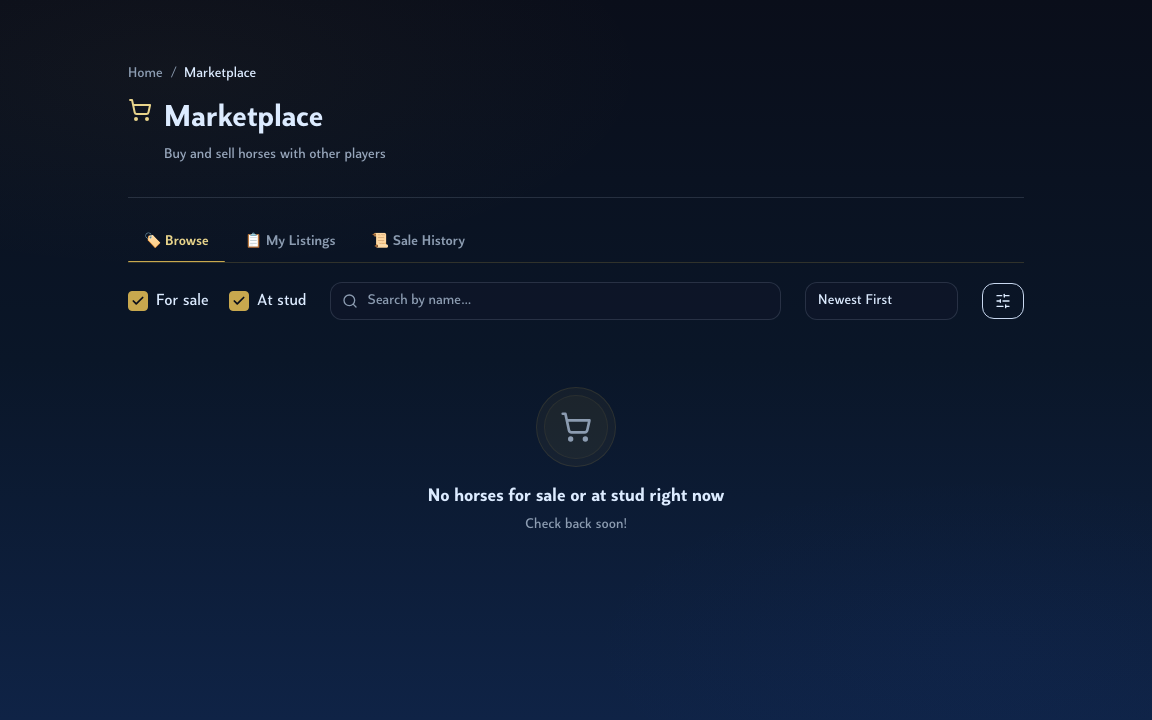
Test: Refused actions show their reason at the button (Equoria-bvddn.40) › a refused delist on My Listings shows on that listing only
Click the tab with test id "tab-my-listings".
click(290, 242)  # box left=229, top=222, right=352, bottom=262
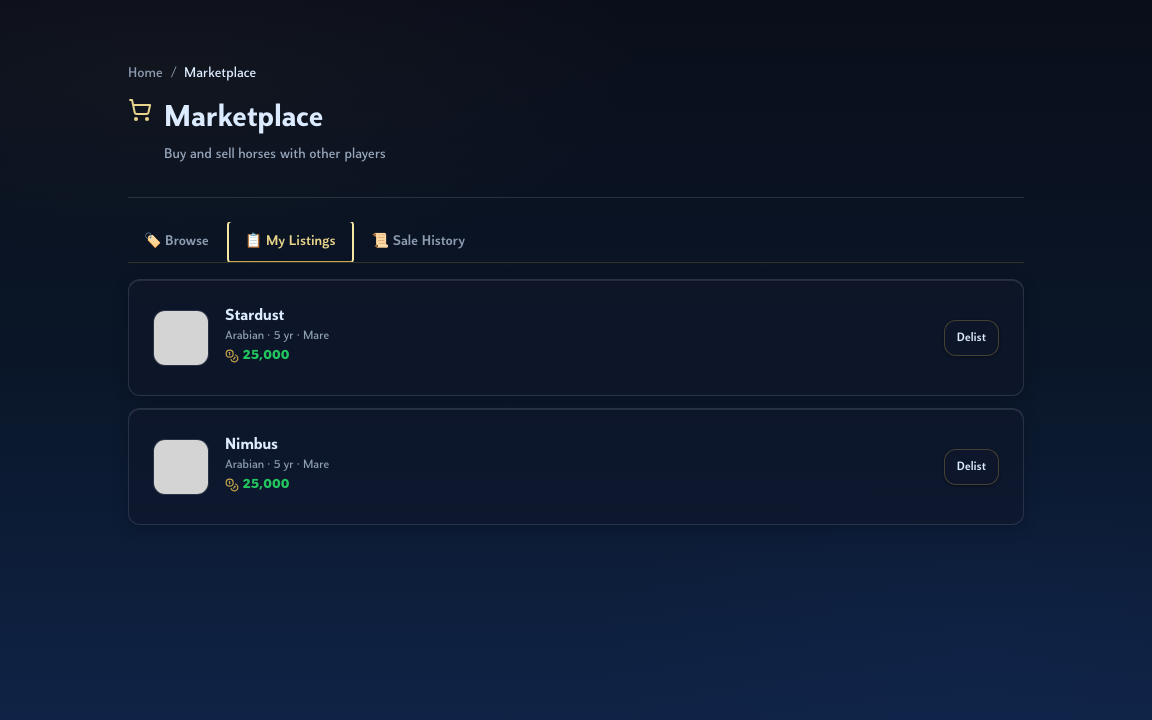
Click the button "Delist" in the row of "Stardust".
click(971, 338)  # box left=944, top=320, right=999, bottom=356
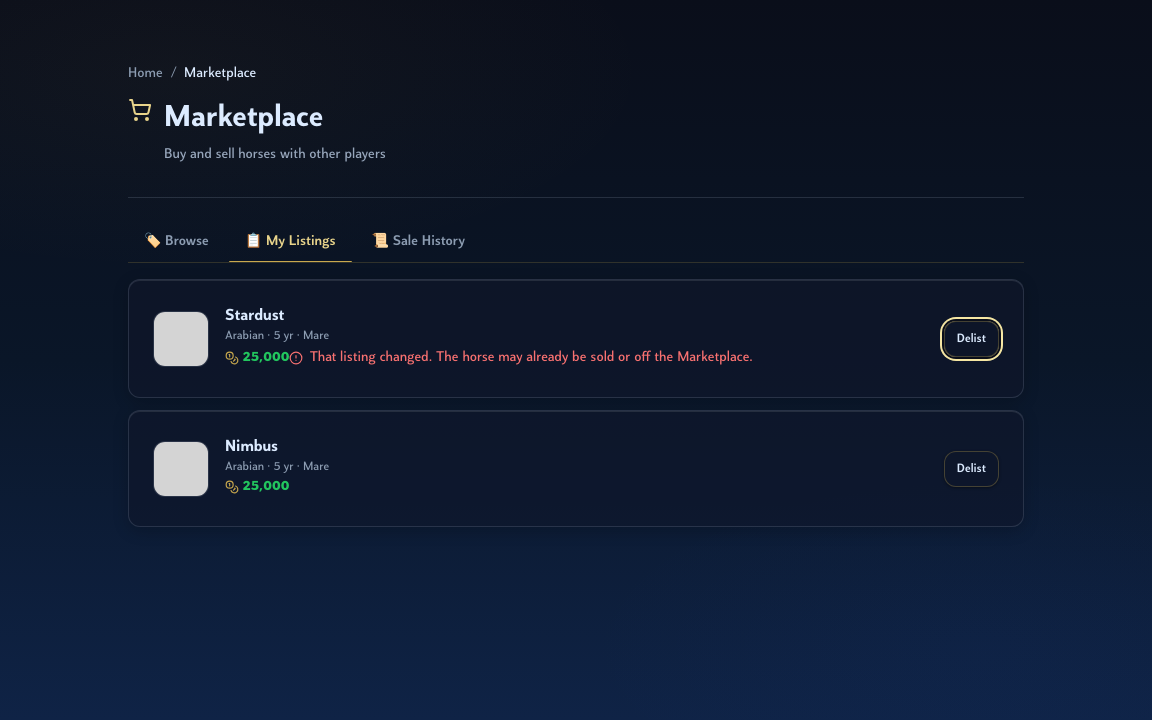
Expected: the message reads "That listing changed. The horse may already be sold or off the Marketplace.", left=309, top=350, right=753, bottom=365
Expected: the number of messages is 1, left=289, top=348, right=753, bottom=368
